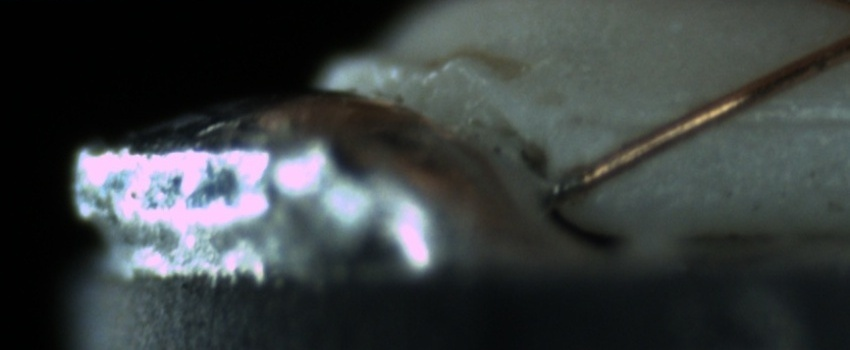DL: (617, 86, 849, 155)
TS: (550, 171, 580, 199)
